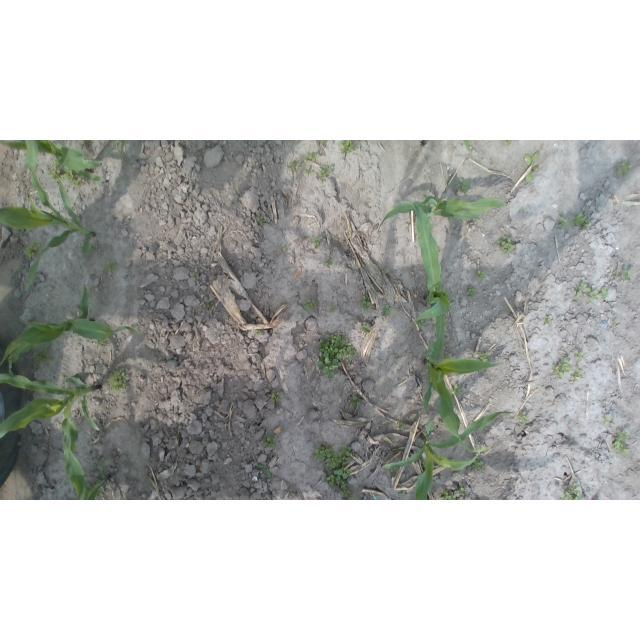Maize: (0, 141, 96, 294), (0, 373, 102, 500), (422, 295, 503, 453), (0, 283, 144, 369), (381, 412, 515, 501), (400, 200, 448, 362), (376, 196, 512, 235), (0, 141, 104, 184), (61, 440, 111, 500), (462, 140, 476, 156), (421, 141, 431, 148)
Weeds: (315, 444, 358, 500), (317, 333, 358, 379), (50, 161, 85, 185), (574, 281, 608, 303), (109, 369, 130, 392), (525, 151, 540, 183), (551, 357, 573, 378), (613, 429, 629, 455), (571, 212, 591, 230), (441, 488, 468, 501), (614, 159, 632, 178), (562, 482, 581, 500), (23, 241, 41, 259), (455, 177, 472, 195), (256, 461, 273, 479), (497, 237, 516, 253), (32, 351, 52, 366), (341, 140, 360, 154), (614, 270, 635, 281), (318, 165, 333, 180), (302, 299, 317, 314), (261, 436, 276, 449), (303, 152, 320, 163), (359, 295, 371, 310), (476, 352, 492, 363), (349, 396, 362, 409), (105, 261, 118, 273), (472, 460, 485, 471), (570, 369, 582, 380), (518, 412, 529, 424), (558, 217, 569, 229), (450, 384, 463, 394), (290, 162, 302, 171), (575, 350, 585, 360), (190, 271, 201, 280), (271, 393, 282, 402), (203, 299, 212, 309), (311, 238, 320, 248), (328, 305, 338, 314), (467, 287, 476, 297), (475, 271, 485, 280), (396, 420, 404, 431), (382, 305, 390, 316), (257, 216, 265, 226), (544, 316, 552, 325), (81, 140, 93, 146), (361, 325, 371, 332), (416, 320, 426, 326), (605, 416, 612, 424), (280, 244, 287, 252), (327, 259, 334, 267), (504, 140, 515, 145), (398, 490, 407, 496), (304, 167, 313, 173), (256, 329, 263, 335), (320, 140, 327, 145), (391, 468, 398, 472), (253, 321, 256, 325)
